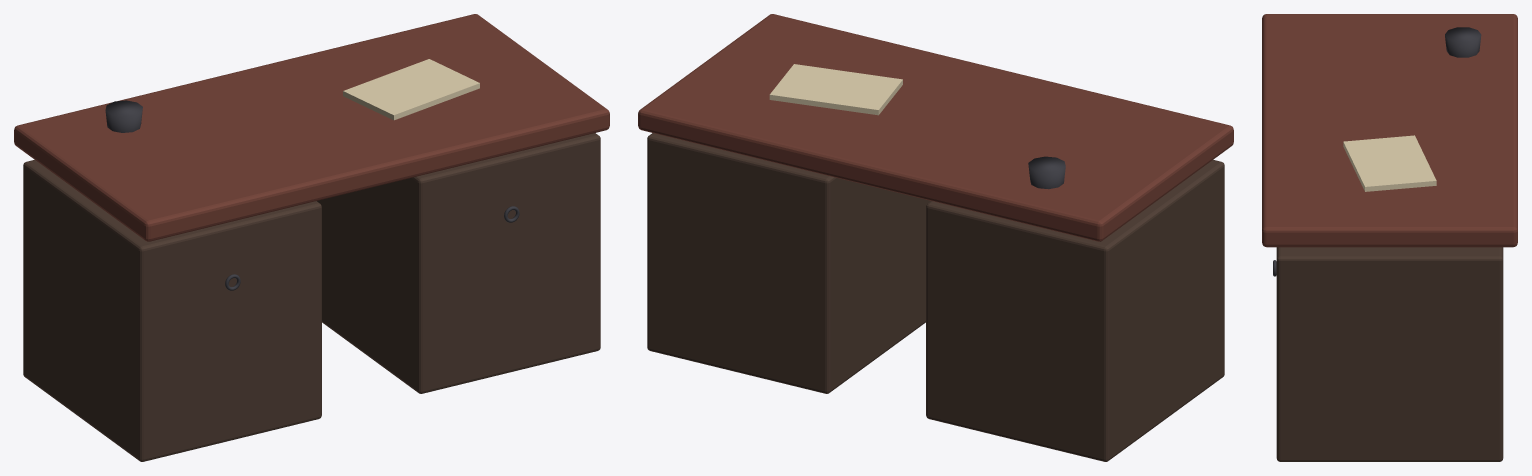
The model's file is desk_scholar.glb.
3 views of the same model, side by side, from view 1: azimuth 30°, elevation 25°; view 2: azimuth 150°, elevation 25°; view 3: azimuth 270°, elevation 25° (orthographic). The views are drawn at different scales.
Parts seen in each view (by area): view 1: GD_desk_scholar__m1, GD_desk_scholar__m0, GD_desk_scholar__m3, GD_desk_scholar__m2; view 2: GD_desk_scholar__m1, GD_desk_scholar__m0, GD_desk_scholar__m3, GD_desk_scholar__m2; view 3: GD_desk_scholar__m0, GD_desk_scholar__m1, GD_desk_scholar__m3, GD_desk_scholar__m2.
Boxes of the visible parts, x1,y1,x2,y2 form: GD_desk_scholar__m1: (23, 133, 600, 461); GD_desk_scholar__m0: (14, 14, 609, 241); GD_desk_scholar__m3: (343, 59, 479, 120); GD_desk_scholar__m2: (105, 100, 519, 290); GD_desk_scholar__m1: (647, 133, 1224, 461); GD_desk_scholar__m0: (638, 14, 1233, 241); GD_desk_scholar__m3: (769, 64, 902, 115); GD_desk_scholar__m2: (1028, 156, 1065, 189); GD_desk_scholar__m0: (1262, 14, 1517, 247); GD_desk_scholar__m1: (1276, 247, 1503, 461); GD_desk_scholar__m3: (1343, 135, 1436, 191); GD_desk_scholar__m2: (1273, 27, 1481, 276).
Bounding box in the file's own units: 1.4 × 0.76 × 0.7.
